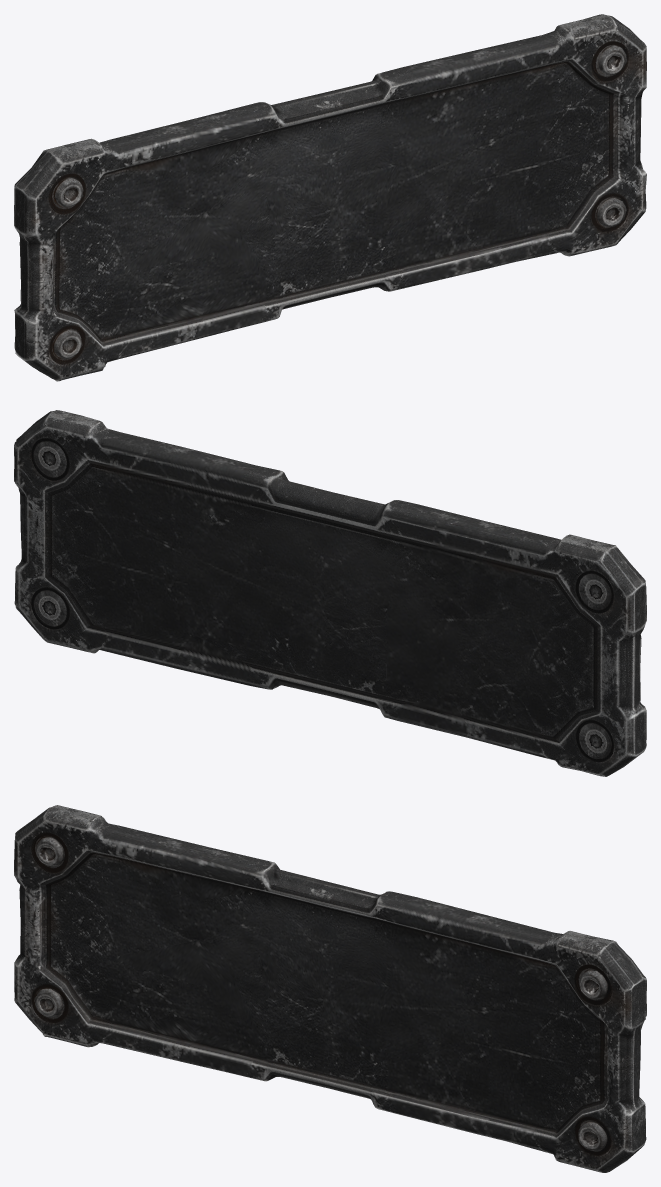
File: Plate.glb
3 views of the same model, one above another, from view 1: azimuth 30°, elevation 25°; view 2: azimuth 150°, elevation 25°; view 3: azimuth 330°, elevation 25° (orthographic).
Size of the model in its own units: 1 by 0.3525 by 0.0594.
1 material, 1 textured.
